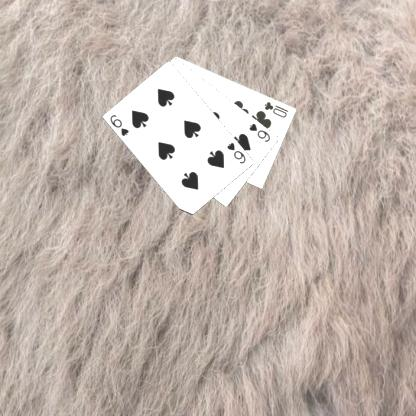10C: (262, 99, 290, 119)
6S: (246, 120, 272, 144), (224, 139, 247, 165), (107, 112, 130, 138)
